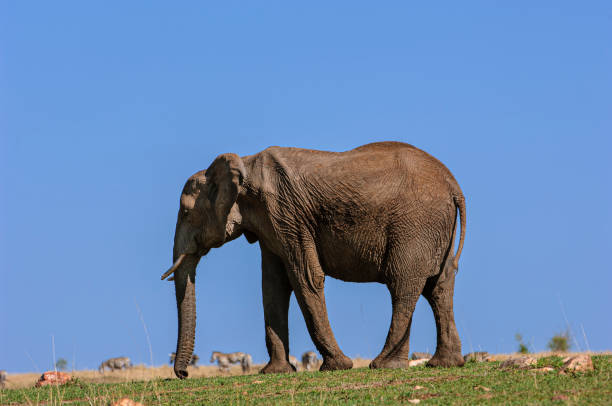africanelephant: (149, 152, 255, 312)
